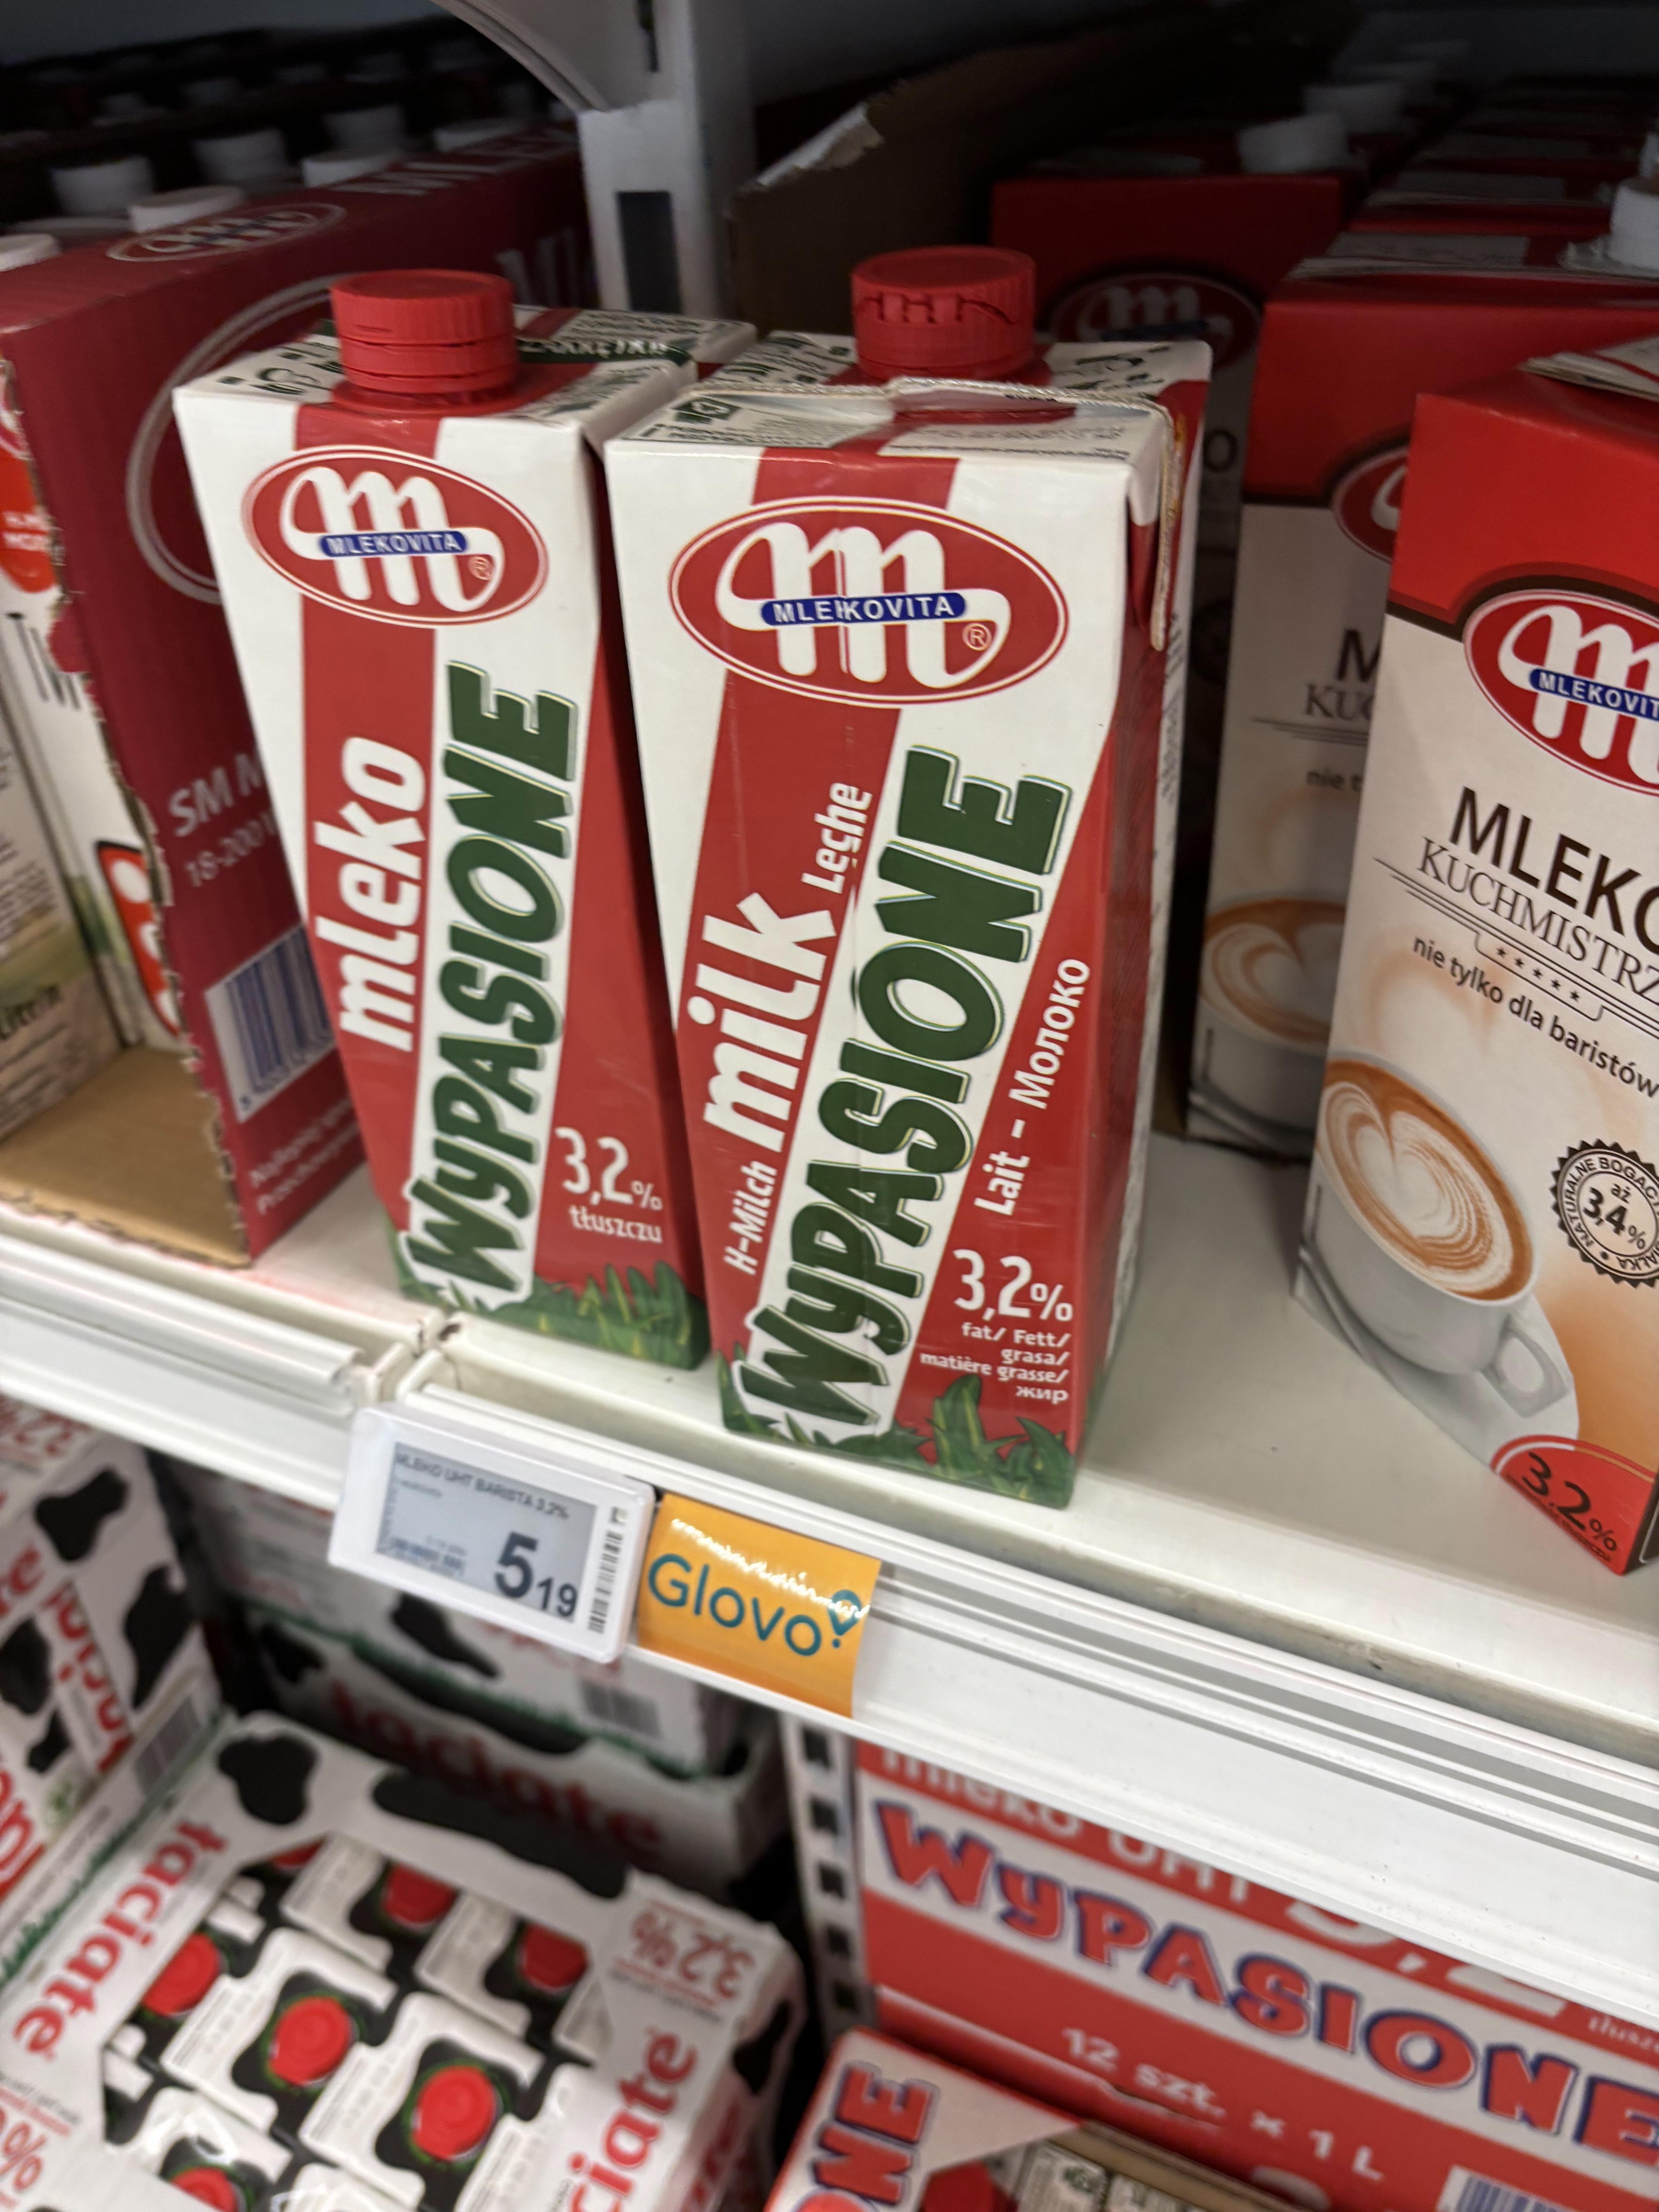Milk: (605, 322, 1159, 1501), (195, 307, 674, 1332)
